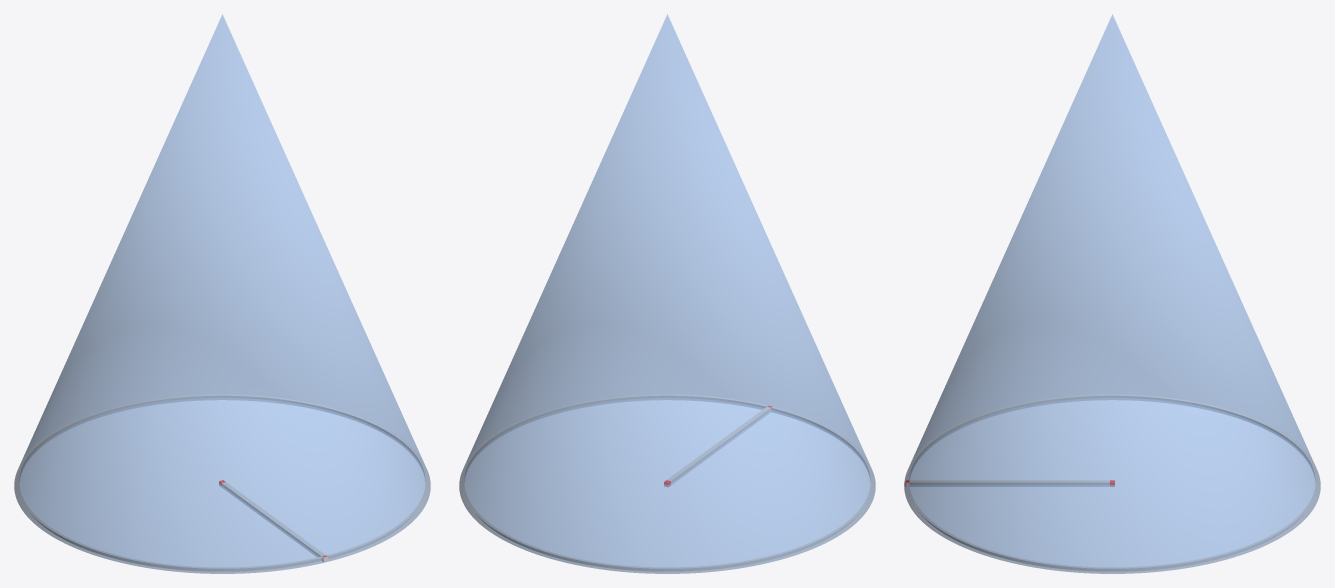
3 renders of one model, left to right at view 1: azimuth 30°, elevation 25°; view 2: azimuth 150°, elevation 25°; view 3: azimuth 270°, elevation 25°, orthographic.
Parts seen in each view (by area): view 1: Kon; view 2: Kon; view 3: Kon.
Boxes of the visible parts, box(x1,y1,x2,y2) form: Kon: box(14, 14, 430, 573); Kon: box(459, 14, 875, 573); Kon: box(904, 14, 1320, 573).
Bounding box in the file's own units: 40 × 50 × 40.
